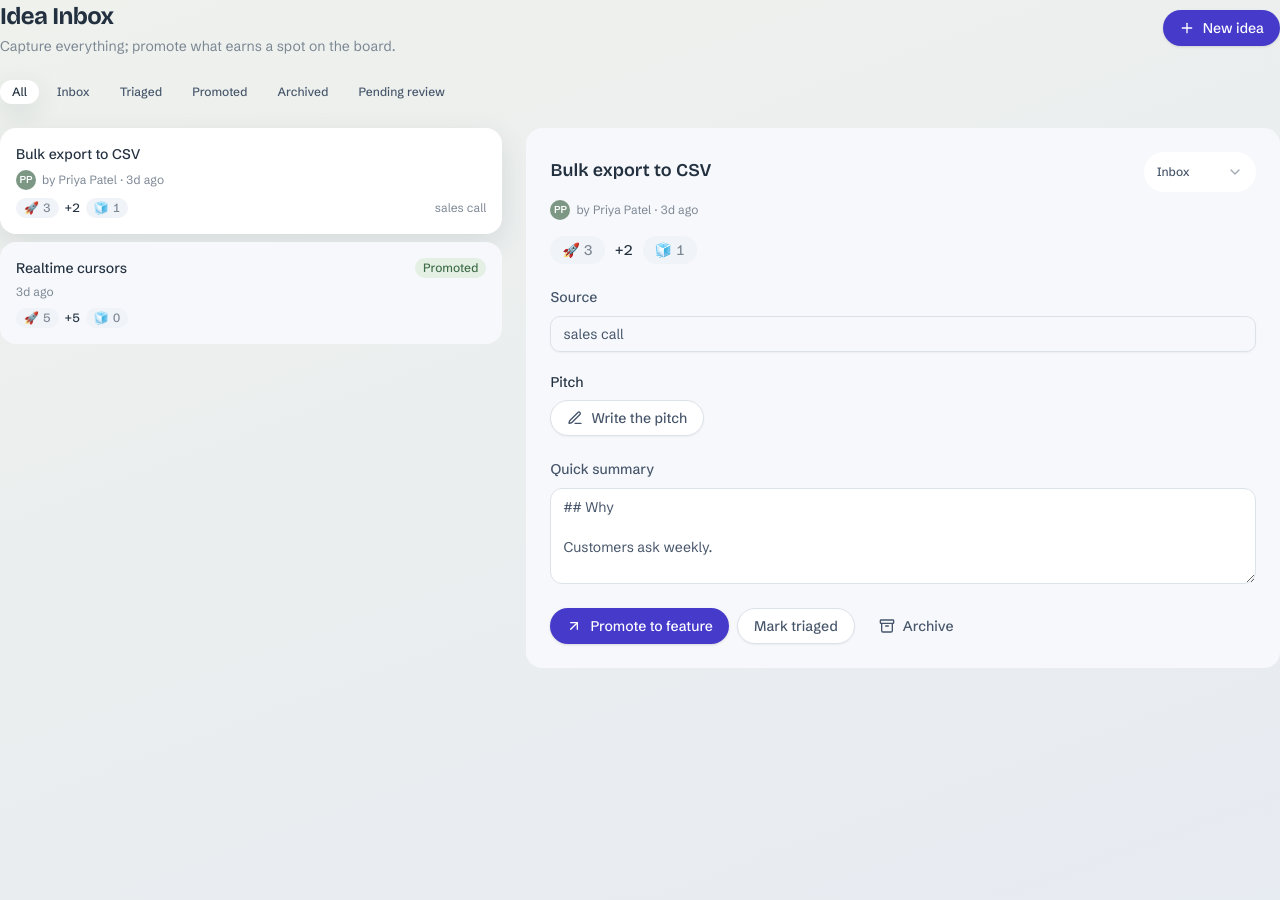
Test case: Idea Inbox › hides the AI brief checkbox when AI is disabled
Step 1. Click the button "Promote to feature" → x=640, y=626, box [550,608,729,644]
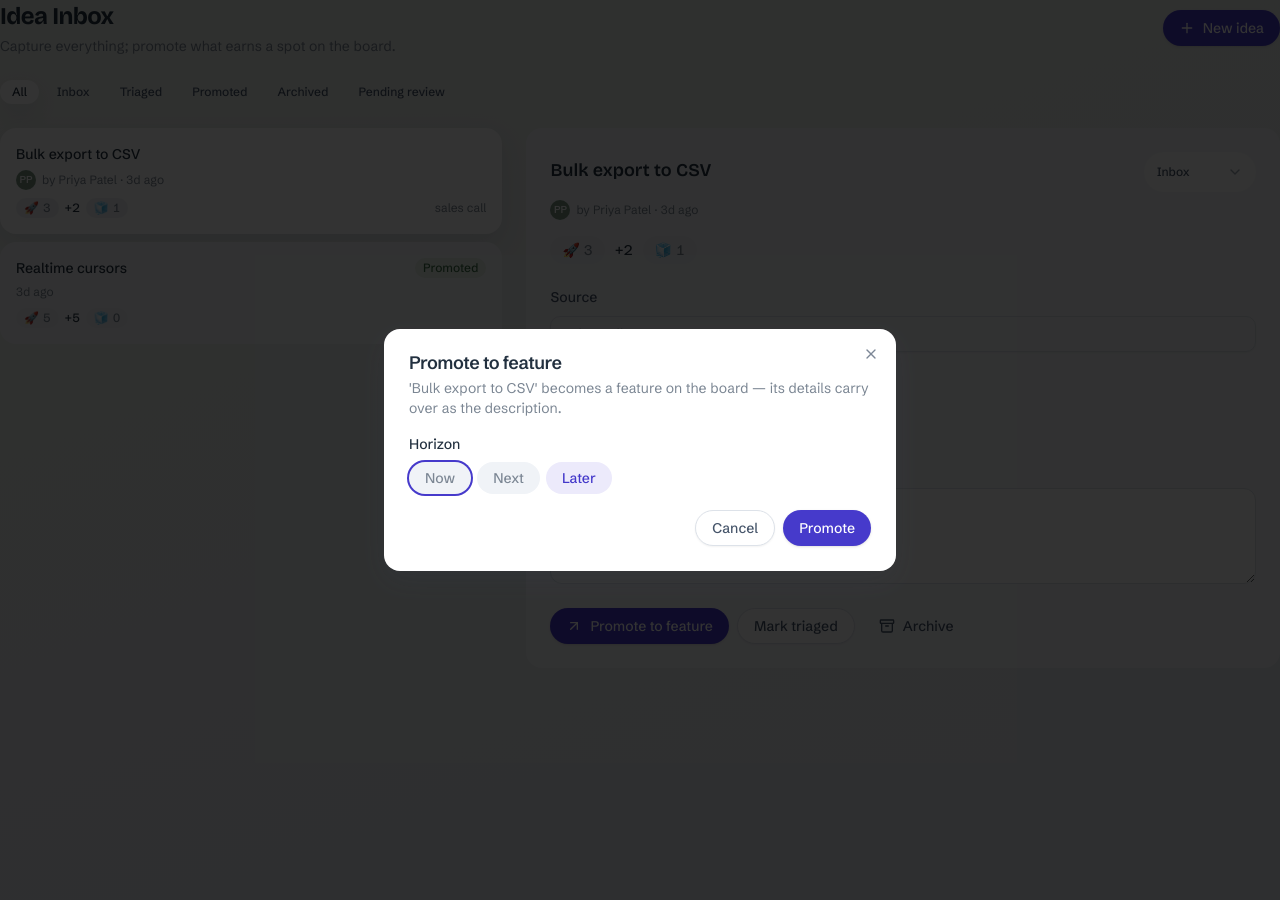
Expected: the radio button labelled "Later" is shown, [546,462,612,494]
